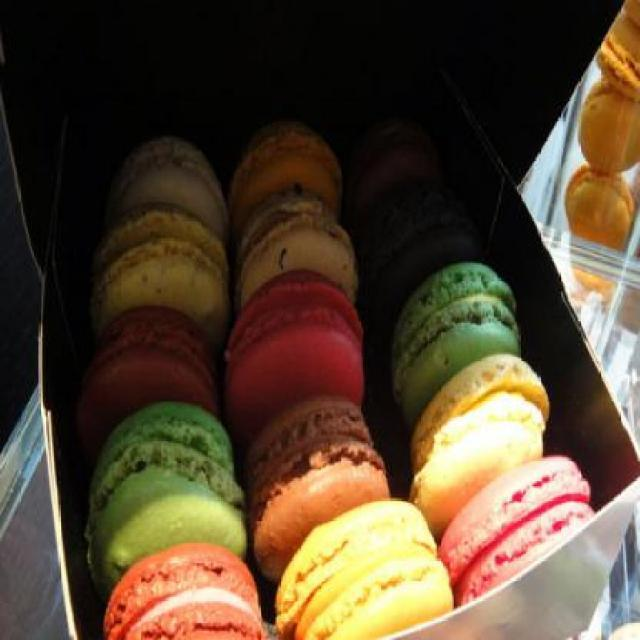Macaron: (72, 120, 617, 637)
